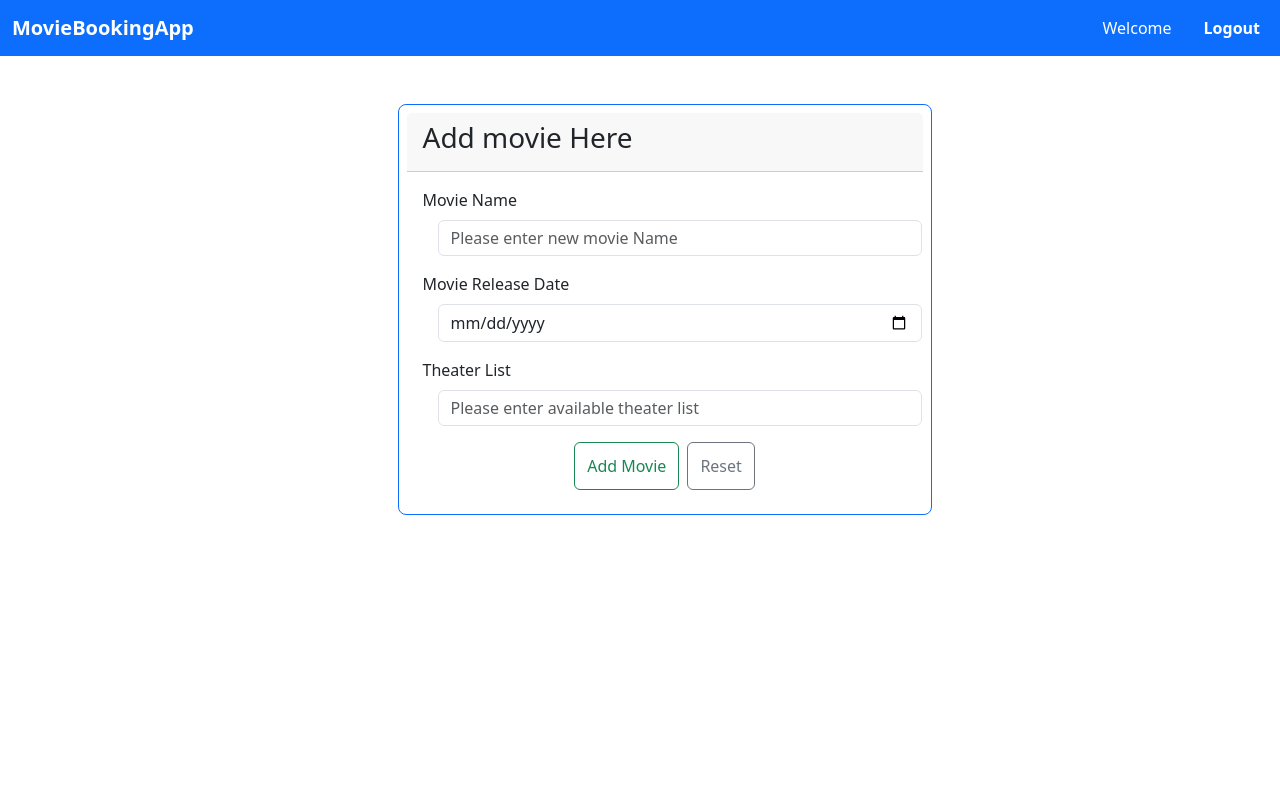
Test case: AddMovie Component › shows error messages for invalid inputs
Note: Submit the form without filling it
Click the button "Add Movie": (627, 466) [574,442,679,490]
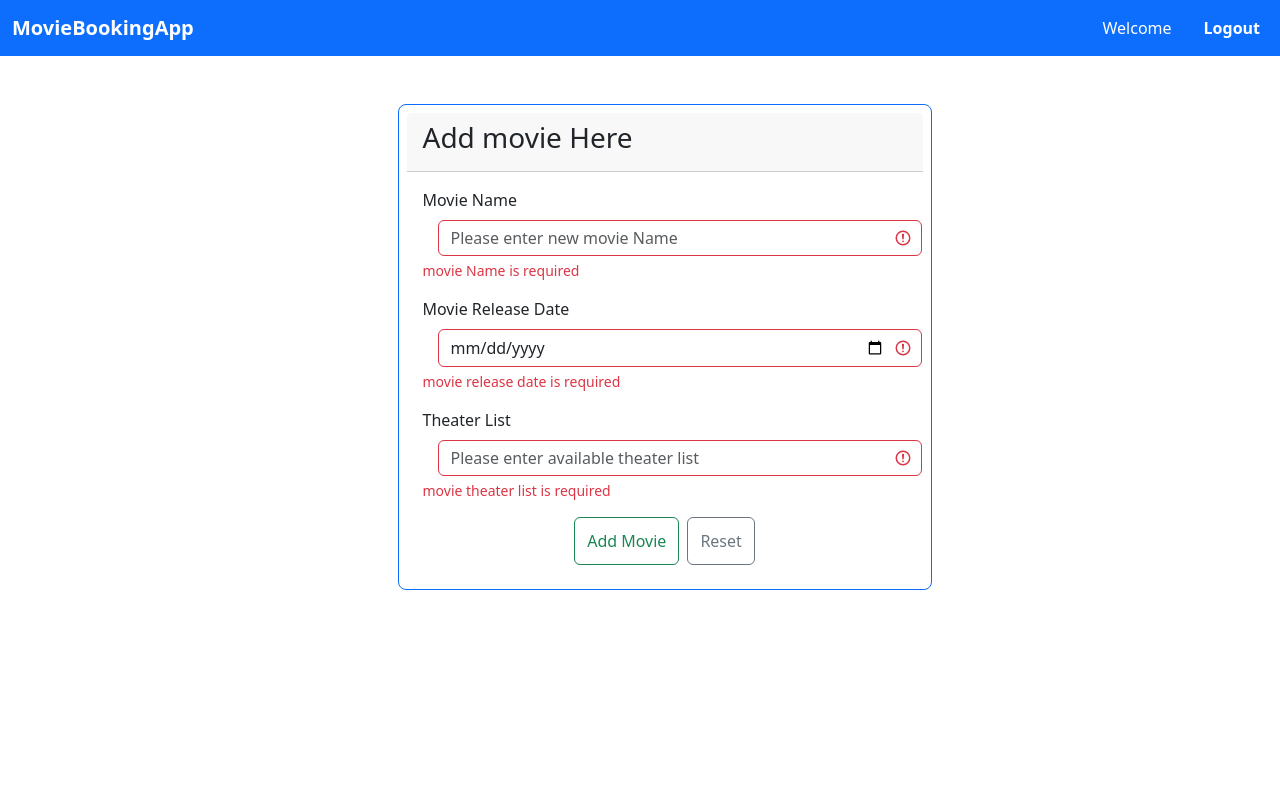
Result: the text "movie Name is required" is shown at [422,261,579,280]
Result: the text "movie release date is required" is shown at [422,372,620,391]
Result: the text "movie theater list is required" is shown at [422,481,611,500]
